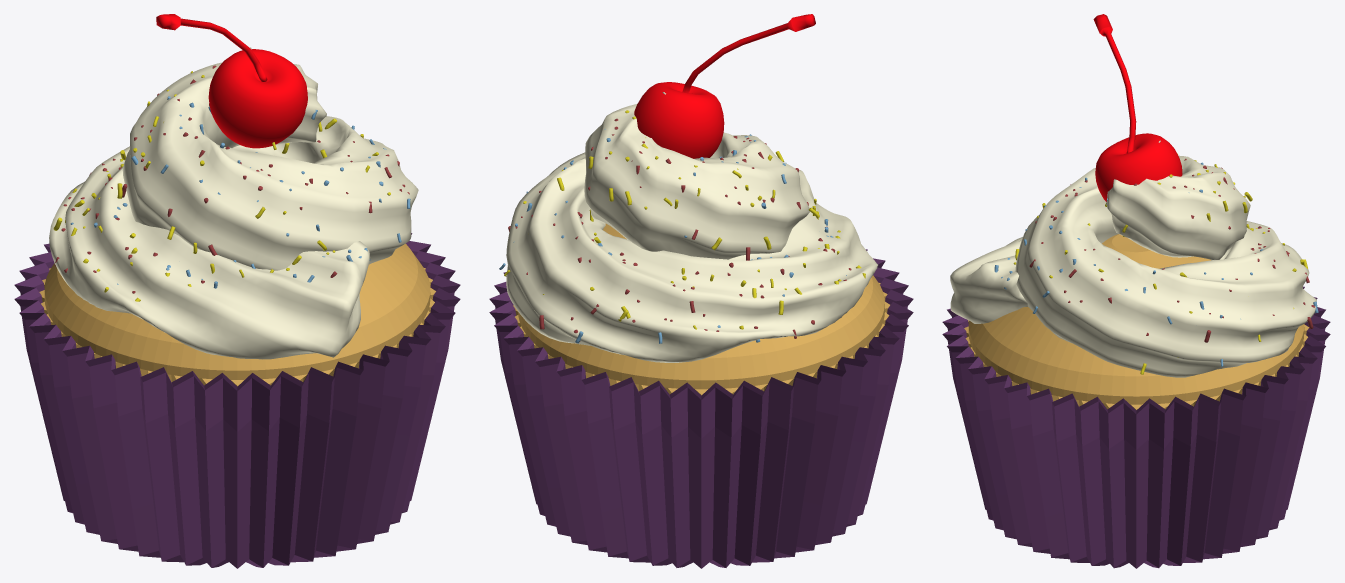
The model's file is cake4.glb.
3 views of the same model, side by side, from view 1: azimuth 30°, elevation 25°; view 2: azimuth 150°, elevation 25°; view 3: azimuth 270°, elevation 25° (orthographic). The views are drawn at different scales.
Parts seen in each view (by area): view 1: cup, cream, cake, cherry, cherry.001; view 2: cup, cream, cake, cherry, cherry.001; view 3: cup, cream, cake, cherry, cherry.001.
Part boxes in pixels (<box>): cup: <box>14,233,460,568</box>; cream: <box>49,47,418,359</box>; cake: <box>39,243,435,386</box>; cherry: <box>208,49,307,148</box>; cherry.001: <box>156,14,267,81</box>; cup: <box>489,249,913,568</box>; cream: <box>506,92,877,362</box>; cake: <box>513,223,889,395</box>; cherry: <box>634,82,724,158</box>; cherry.001: <box>682,14,815,93</box>; cup: <box>942,286,1330,568</box>; cream: <box>950,140,1316,377</box>; cake: <box>964,234,1309,409</box>; cherry: <box>1095,133,1182,201</box>; cherry.001: <box>1093,14,1136,153</box>.
Bounding box in the file's own units: 0.3649 × 0.4828 × 0.3639.
